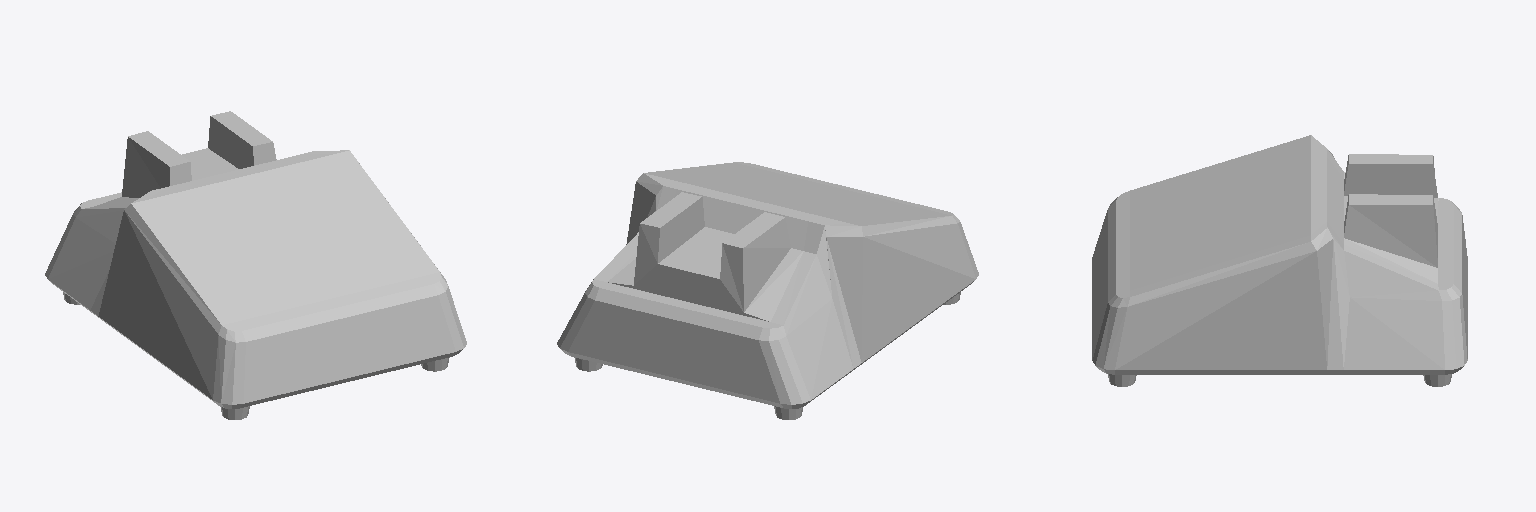
Rendered from TelePhoneBase.obj.
The picture shows the model from 3 angles: view 1: azimuth 30°, elevation 25°; view 2: azimuth 150°, elevation 25°; view 3: azimuth 270°, elevation 25°; orthographic projection.
Parts seen in each view (by area): view 1: Converted object 0(m1), Converted object 0(m0); view 2: Converted object 0(m1), Converted object 0(m0); view 3: Converted object 0(m1), Converted object 0(m0).
Boxes of the visible parts, x1,y1,x2,y2 form: Converted object 0(m1): [45, 111, 466, 408]; Converted object 0(m0): [63, 292, 449, 419]; Converted object 0(m1): [557, 162, 978, 408]; Converted object 0(m0): [574, 292, 960, 419]; Converted object 0(m1): [1092, 135, 1467, 374]; Converted object 0(m0): [1108, 374, 1451, 386].
Bounding box in the file's own units: 8.82 × 5.15 × 11.4.